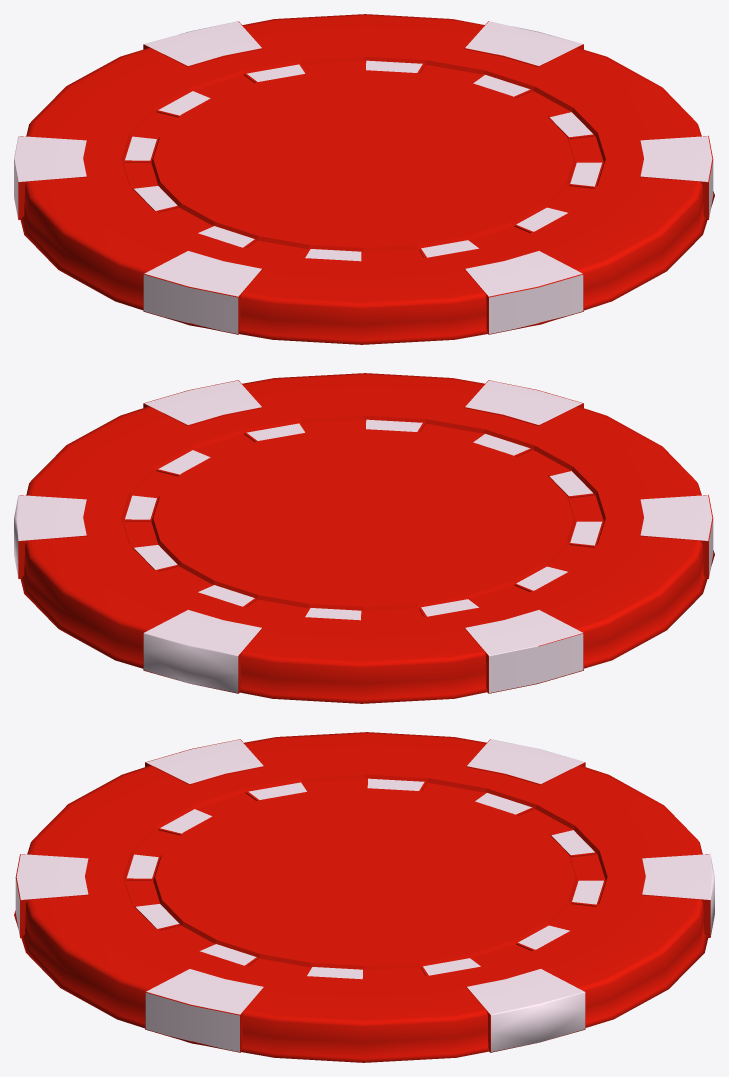
File: red chip.fbx
3 views of the same model, one above another, from view 1: azimuth 30°, elevation 25°; view 2: azimuth 150°, elevation 25°; view 3: azimuth 270°, elevation 25° (orthographic).
Visible parts, largest first — view 1: Casino_Color_Chips.001; view 2: Casino_Color_Chips.001; view 3: Casino_Color_Chips.001.
Part boxes in pixels (x1,y1,x2,y2): Casino_Color_Chips.001: [14, 14, 714, 344]; Casino_Color_Chips.001: [14, 373, 714, 703]; Casino_Color_Chips.001: [14, 732, 714, 1062].
Size of the model in its own units: 79.09 by 4.84 by 78.89.
